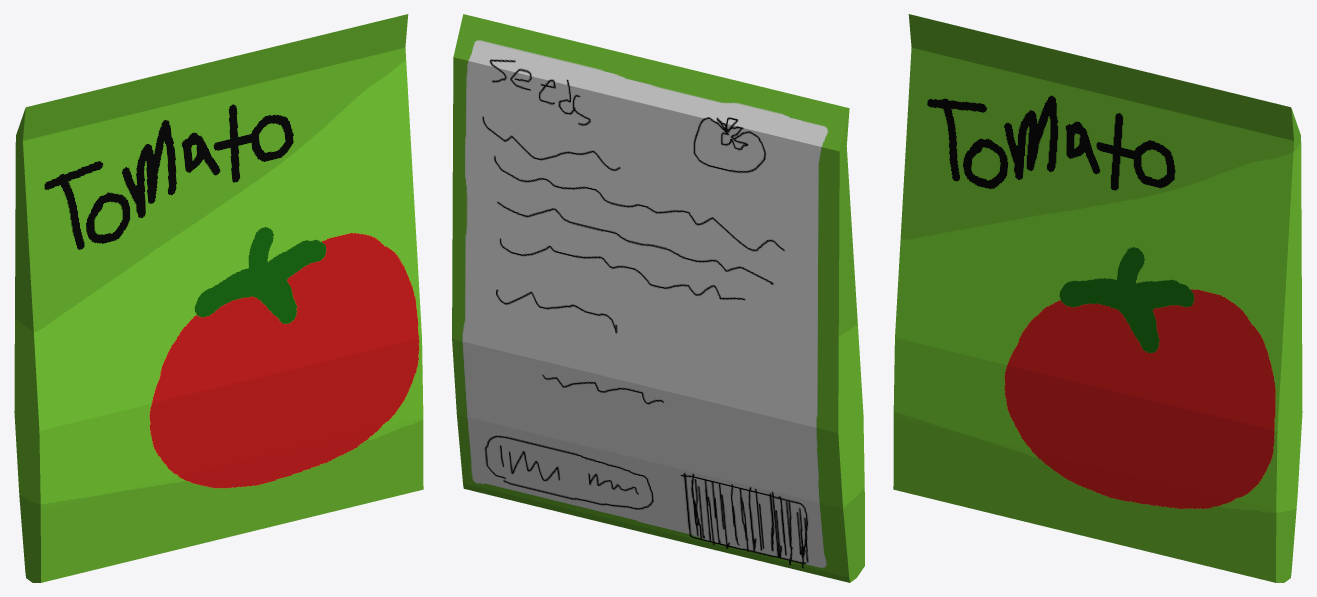
Rendered from SeedPacket.fbx.
3 views of the same model, side by side, from view 1: azimuth 30°, elevation 25°; view 2: azimuth 150°, elevation 25°; view 3: azimuth 330°, elevation 25° (orthographic).
Visible parts, largest first — view 1: SeedPacket; view 2: SeedPacket; view 3: SeedPacket.
Part boxes in pixels (x1,y1,x2,y2): SeedPacket: (14, 14, 423, 582); SeedPacket: (452, 14, 864, 582); SeedPacket: (893, 14, 1302, 582).
Size of the model in its own units: 8.95 by 10.51 by 1.07.
